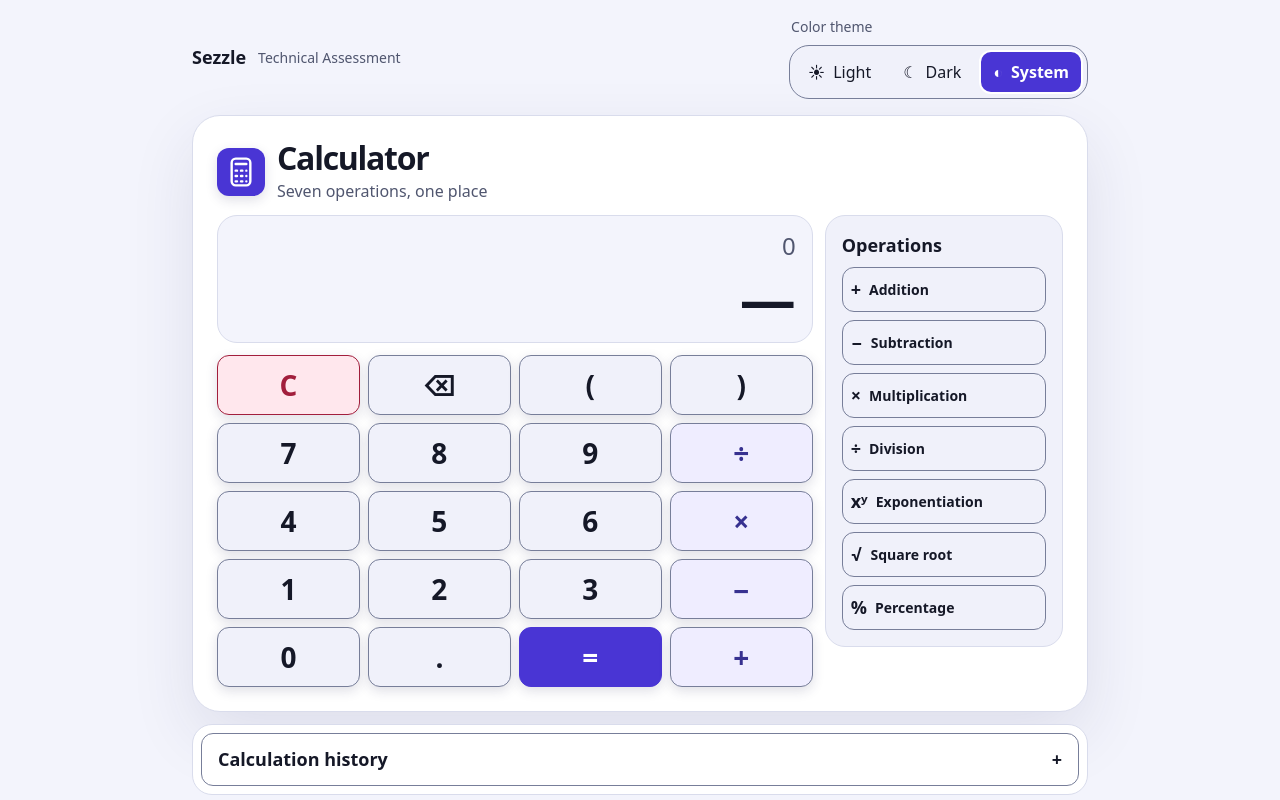
it: functional calculator integration › submits keyboard 2+3*4 through the expression API
The width and height of the screenshot is (1280, 800).
Type keys "2+3*4{Enter}"
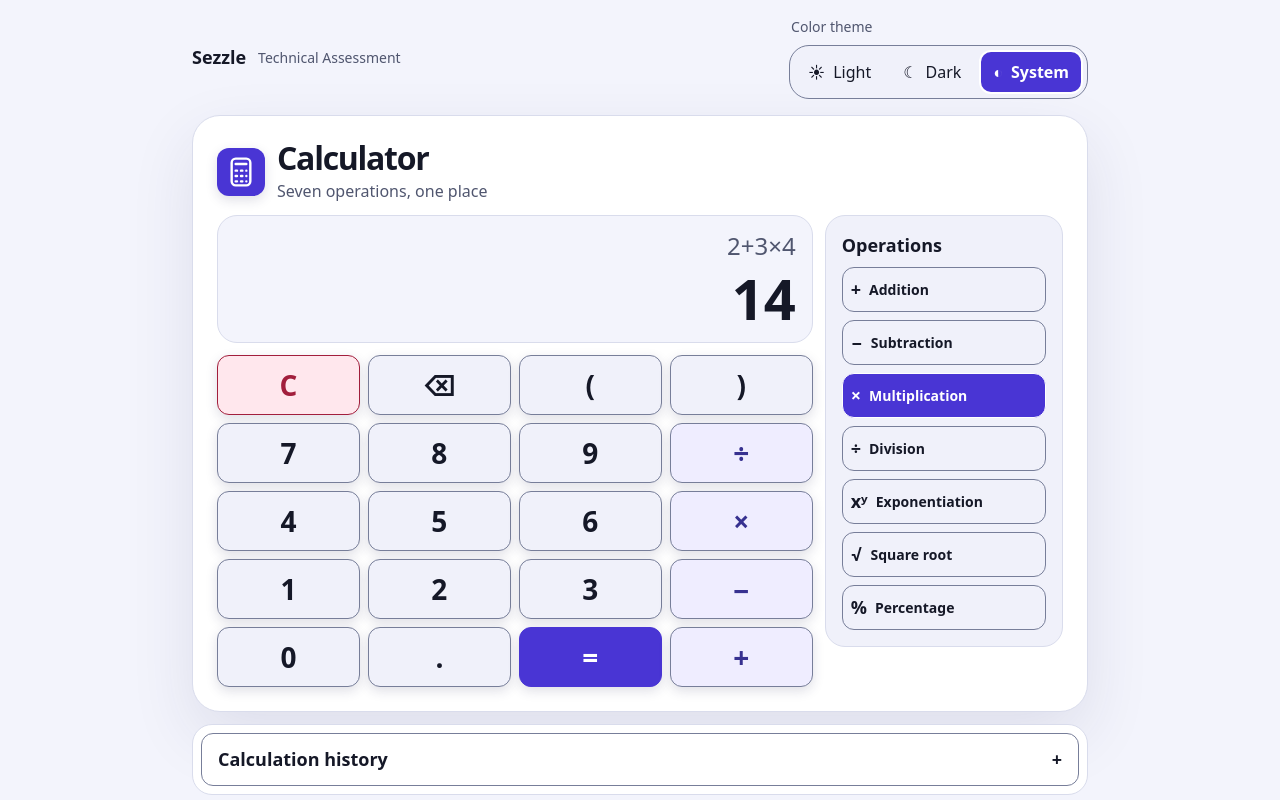
expect the text with test id "calculator-result" reads "14": met, box [732,260,796,336]
Click the button "Calculation history +" at coordinates (303, 759), box [201,733,1079,786]
(page scrolled)
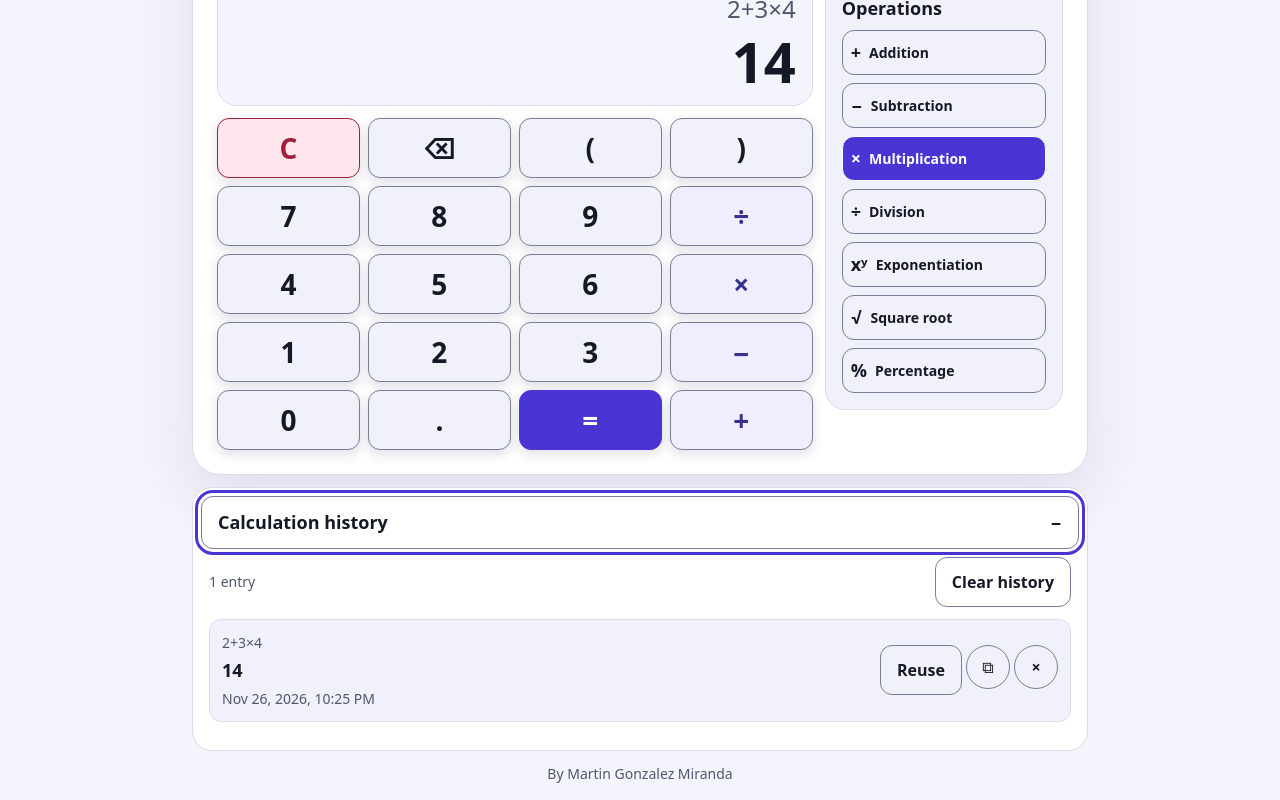
expect the number of list items is 1: met, box [209,619,1071,722]
